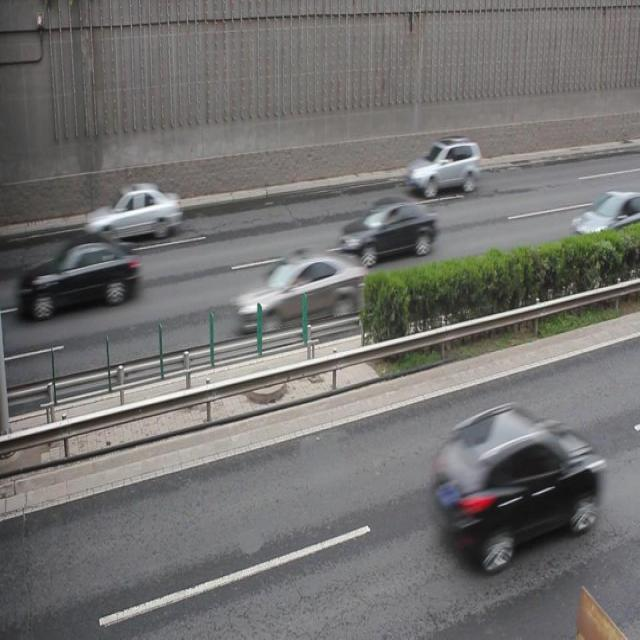car: (434, 401, 596, 572), (233, 245, 368, 336), (29, 230, 138, 314), (340, 194, 435, 261), (85, 186, 182, 245), (411, 136, 480, 198), (571, 192, 640, 244)
